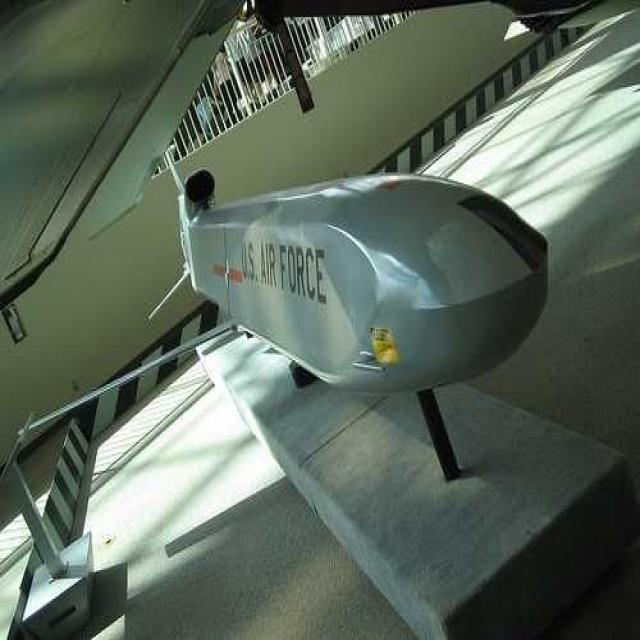missile: (154, 152, 555, 402)
